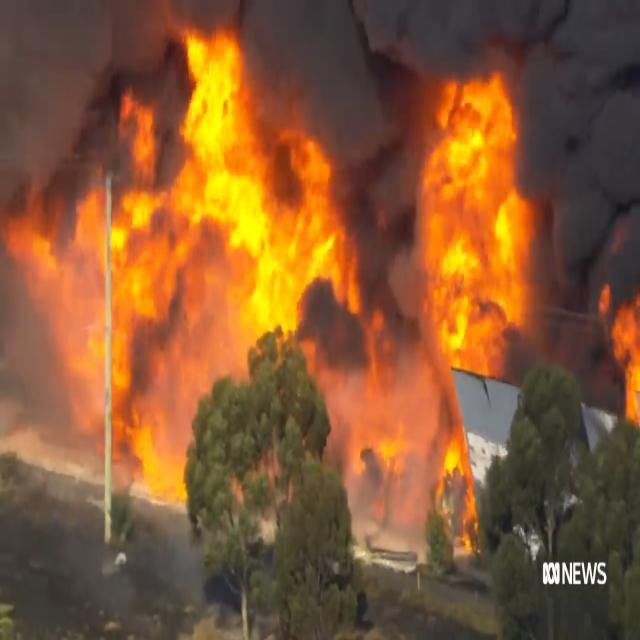fire: (16, 4, 384, 505), (415, 74, 539, 373), (432, 422, 482, 561), (597, 282, 640, 415)
